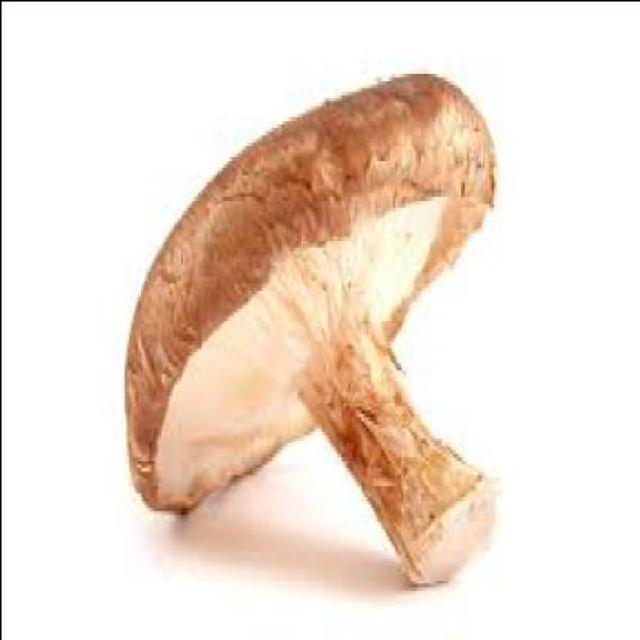BIODEGRADABLE: (122, 64, 495, 578)
